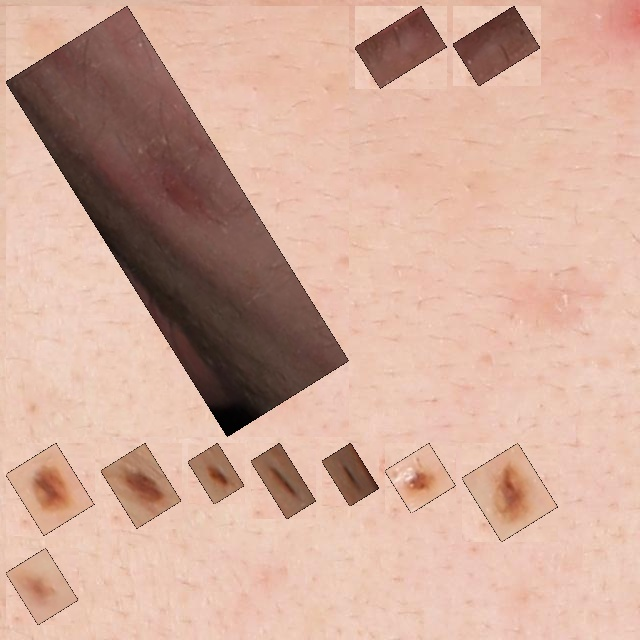hypertrophic_scar: (17, 17, 338, 425), (366, 17, 436, 77), (464, 17, 529, 75)
nevus: (473, 454, 547, 531), (17, 454, 83, 524), (112, 454, 170, 517), (17, 559, 67, 614), (396, 454, 445, 502), (262, 454, 305, 508), (333, 454, 368, 495), (199, 454, 233, 493)
